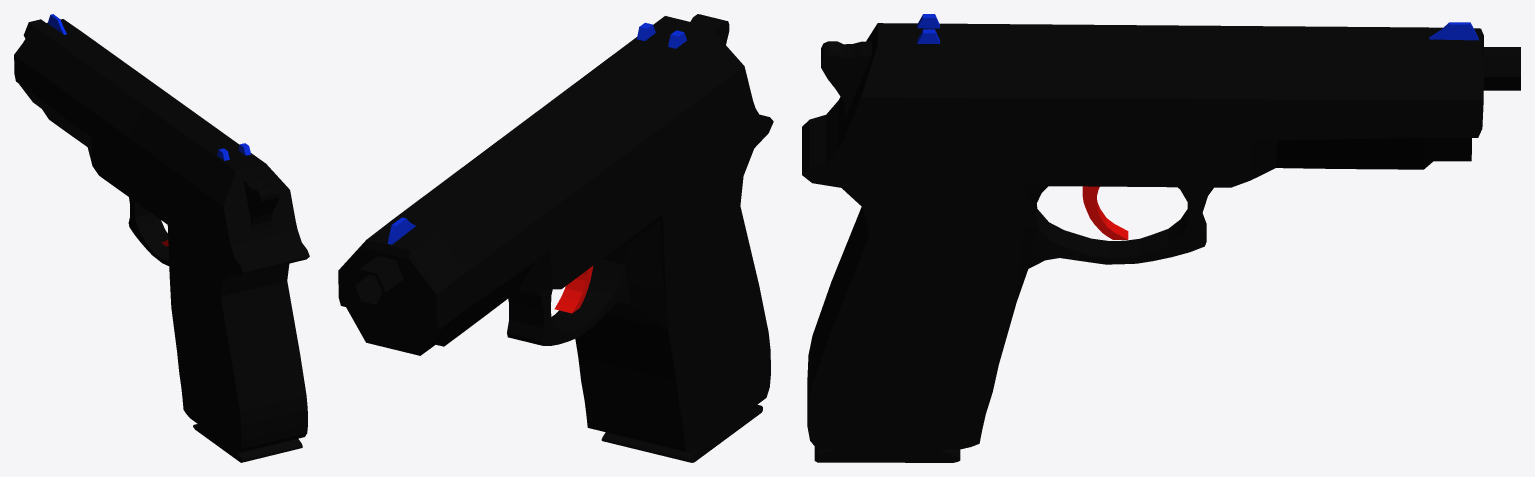
Rendered from pistoltest4.fbx.
3 views of the same model, side by side, from view 1: azimuth 30°, elevation 25°; view 2: azimuth 150°, elevation 25°; view 3: azimuth 270°, elevation 25° (orthographic). The views are drawn at different scales.
Visible parts, largest first — view 1: Body, Barrel, Barrel Bot, Holder, BackTrigger, Magazine, IronSight; view 2: Barrel, Body, Barrel Bot, Holder, Magazine, IronSight, Trigger, BackTrigger; view 3: Barrel, Body, Barrel Bot, Holder, BackTrigger, Magazine, IronSight, Trigger.
Boxes of the visible parts, x1=… form: Body: x1=163, y1=189, x2=309, y2=453; Barrel: x1=14, y1=19, x2=295, y2=238; Barrel Bot: x1=19, y1=84, x2=167, y2=224; Holder: x1=128, y1=197, x2=169, y2=265; BackTrigger: x1=243, y1=176, x2=279, y2=232; Magazine: x1=193, y1=424, x2=302, y2=462; IronSight: x1=47, y1=14, x2=250, y2=160; Barrel: x1=338, y1=16, x2=753, y2=329; Body: x1=575, y1=101, x2=773, y2=451; Barrel Bot: x1=346, y1=175, x2=665, y2=355; Holder: x1=507, y1=214, x2=666, y2=345; Magazine: x1=601, y1=404, x2=762, y2=462; IronSight: x1=387, y1=22, x2=686, y2=244; Trigger: x1=554, y1=266, x2=593, y2=313; BackTrigger: x1=690, y1=14, x2=729, y2=44; Barrel: x1=843, y1=23, x2=1520, y2=142; Body: x1=802, y1=97, x2=1039, y2=449; Barrel Bot: x1=1026, y1=134, x2=1471, y2=187; Holder: x1=1016, y1=186, x2=1213, y2=302; BackTrigger: x1=821, y1=41, x2=871, y2=121; Magazine: x1=814, y1=447, x2=960, y2=462; IronSight: x1=917, y1=14, x2=1478, y2=43; Trigger: x1=1082, y1=186, x2=1128, y2=239.
Size of the model in its own units: 205 by 805 by 1256.
